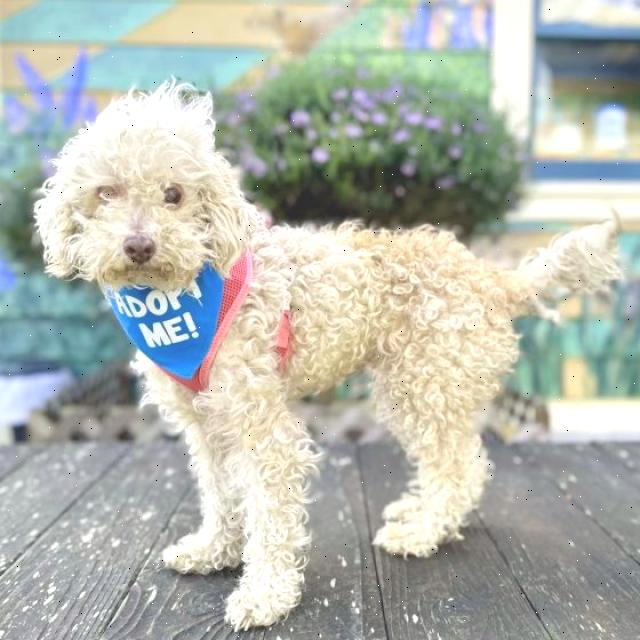Poodle_dog: (34, 74, 262, 306)
